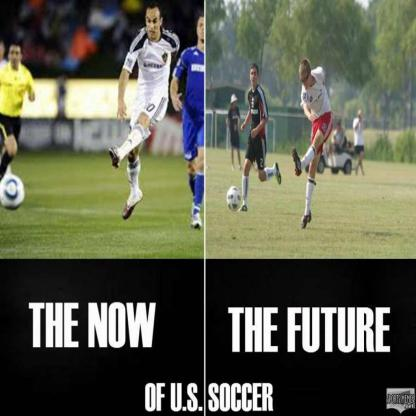face: (147, 10, 161, 40), (10, 46, 22, 70), (198, 17, 209, 41), (300, 69, 311, 90), (251, 69, 258, 87), (234, 102, 238, 109)
